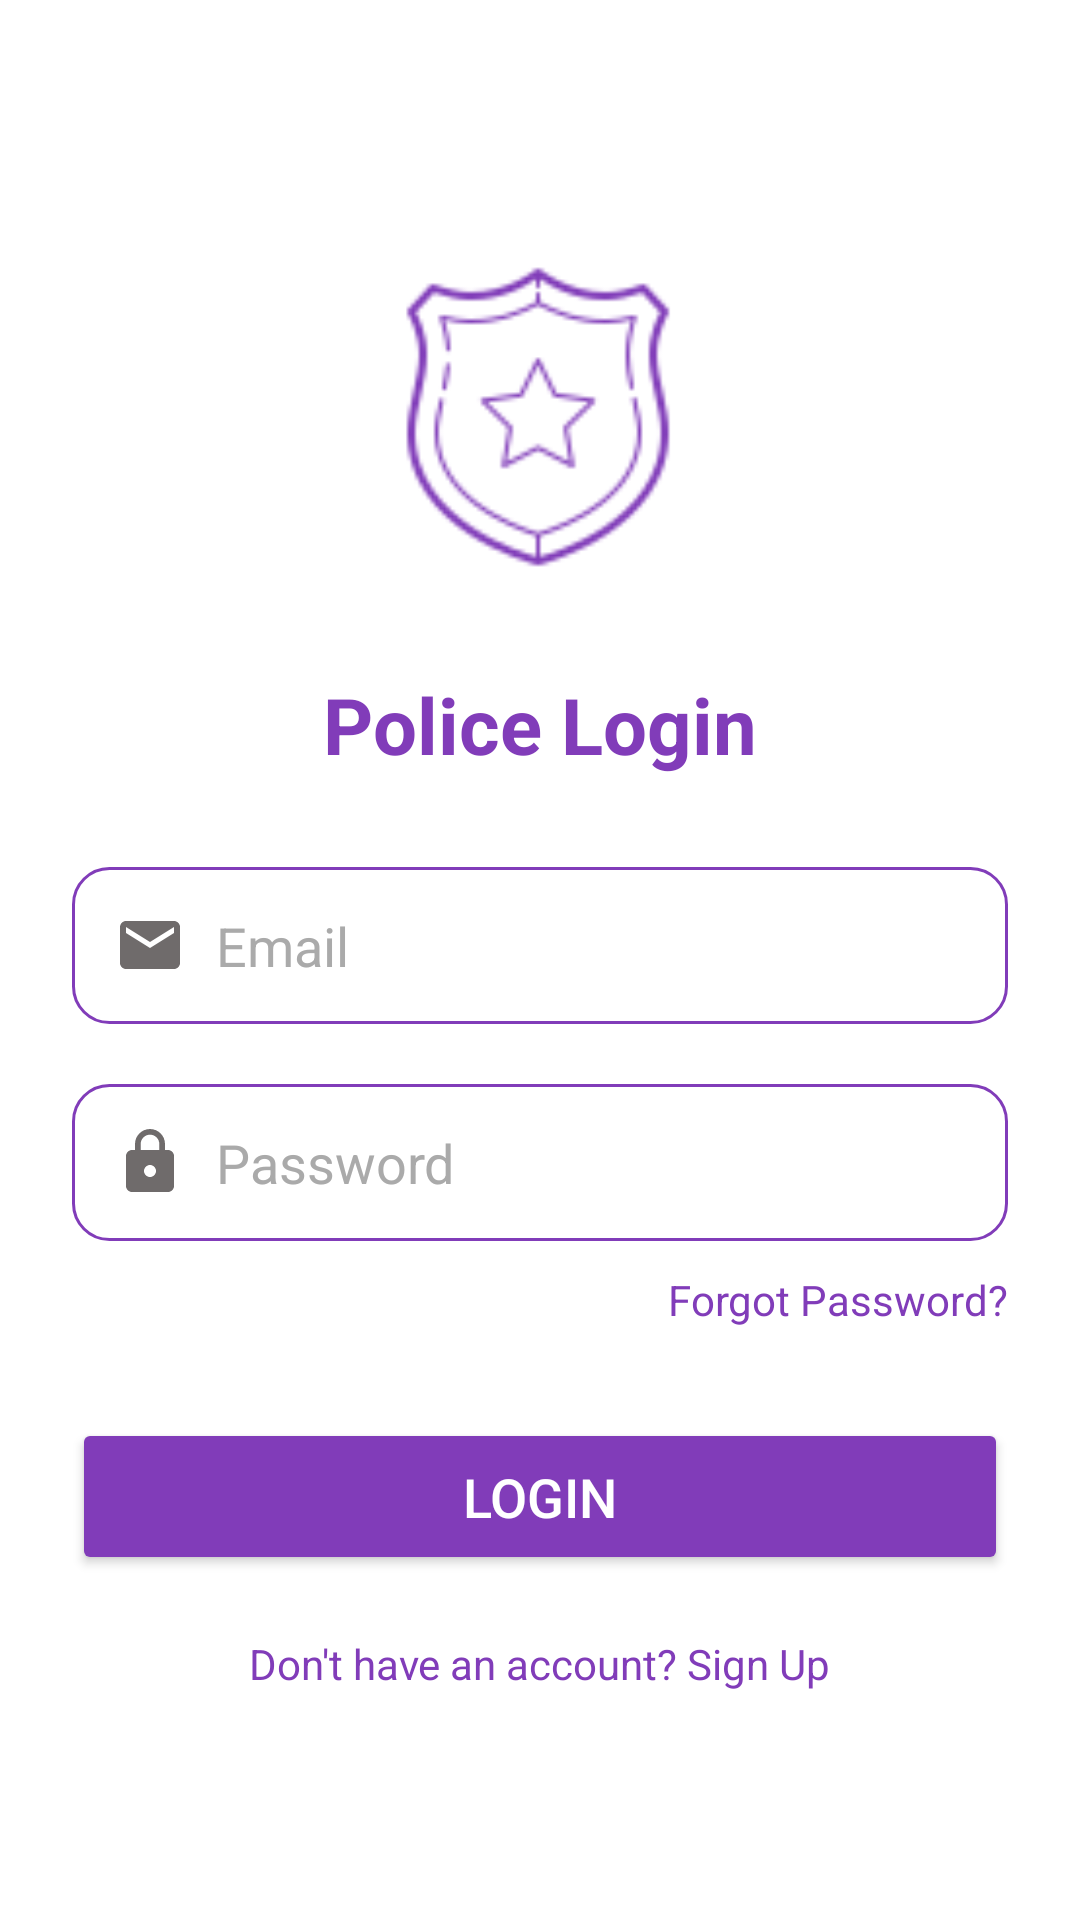

Point at icon controls on the screen. Image size 1080px x 1920px, points as (x=x, y=y).
police badge: (x=538, y=417)
